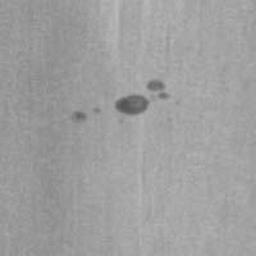Oil spot: (114, 93, 151, 116), (146, 79, 172, 100), (69, 110, 88, 124), (92, 106, 102, 114)
